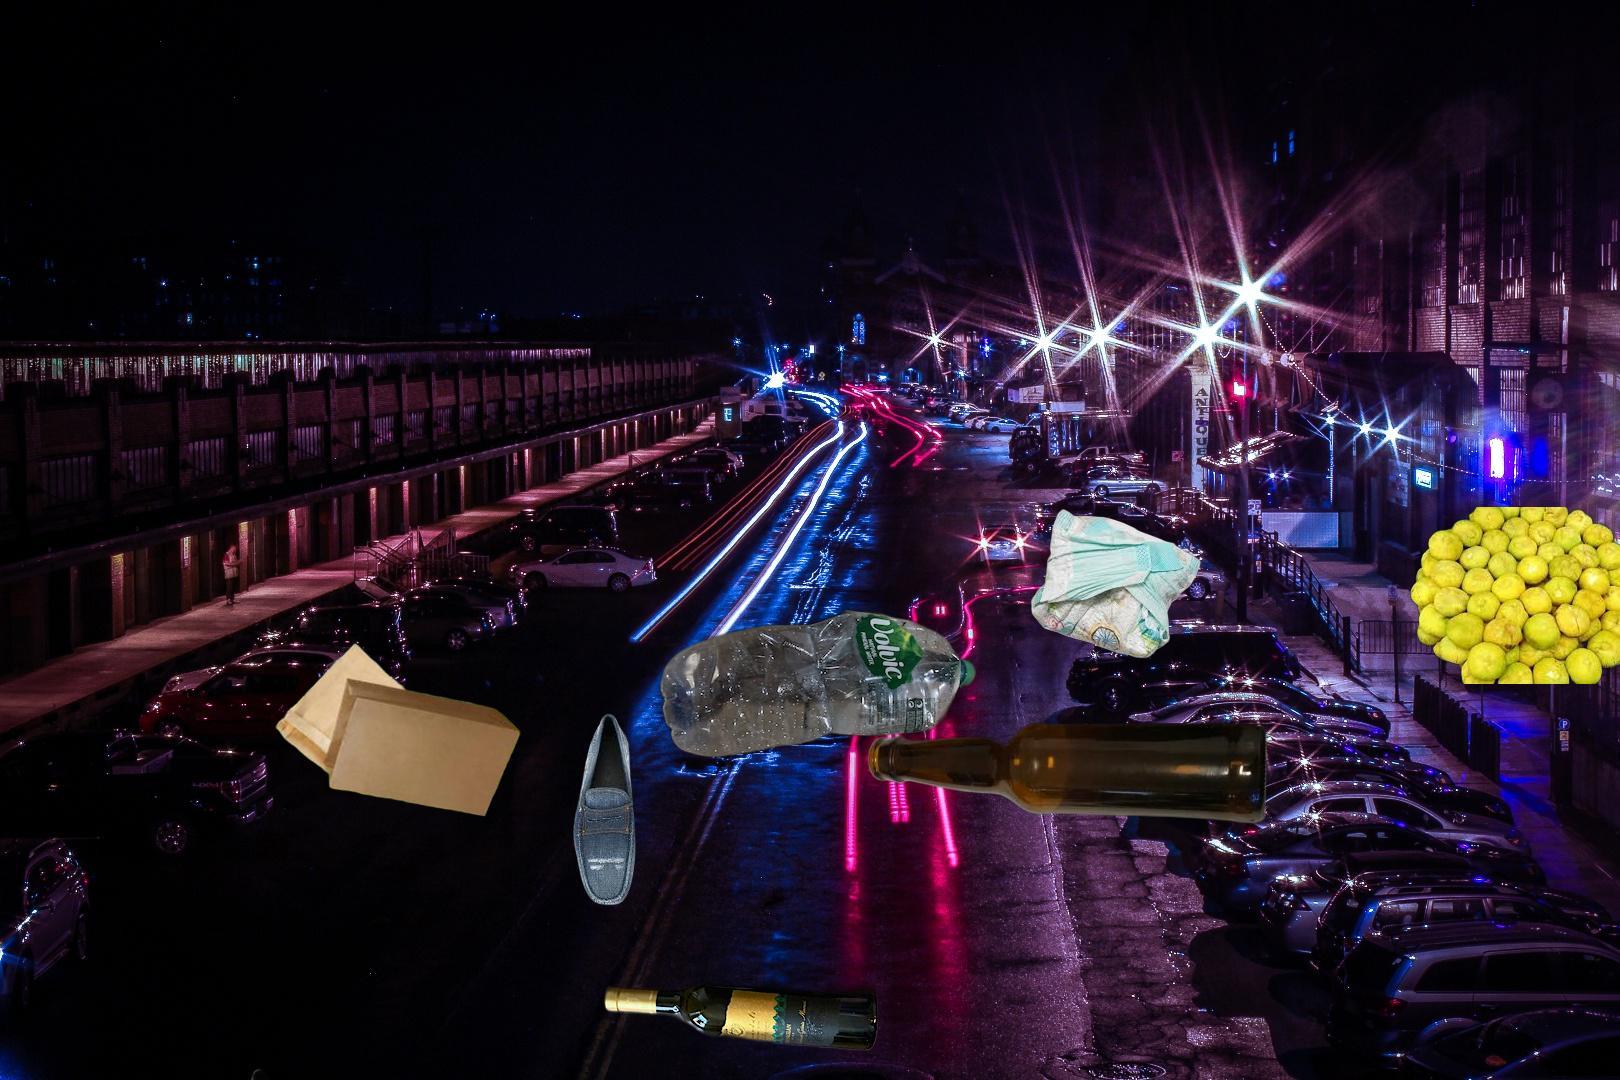biological: (1407, 507, 1620, 683)
glass: (864, 714, 1270, 827), (600, 975, 882, 1057)
paper-bag: (272, 640, 524, 820)
plastic-bottles: (650, 606, 981, 761)
shoes: (570, 711, 638, 908)
trash: (1028, 506, 1204, 661), (69, 1051, 293, 1080)
